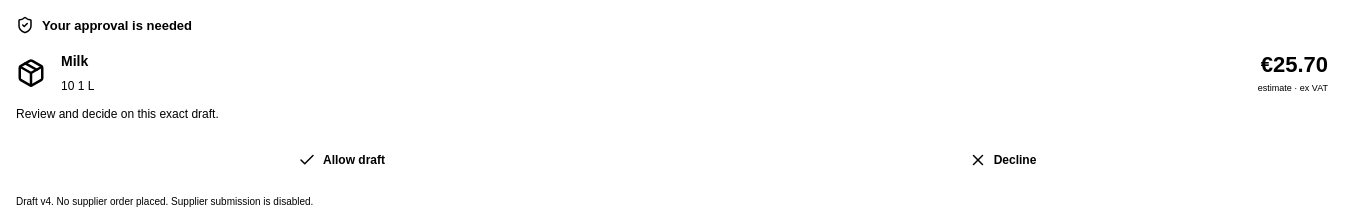
it: inline purchase decisions › submits the viewed revision with approve=false and displays the persisted result
The image size is (1345, 224).
Click the button "Decline": click(1002, 160) [677,139,1328,181]
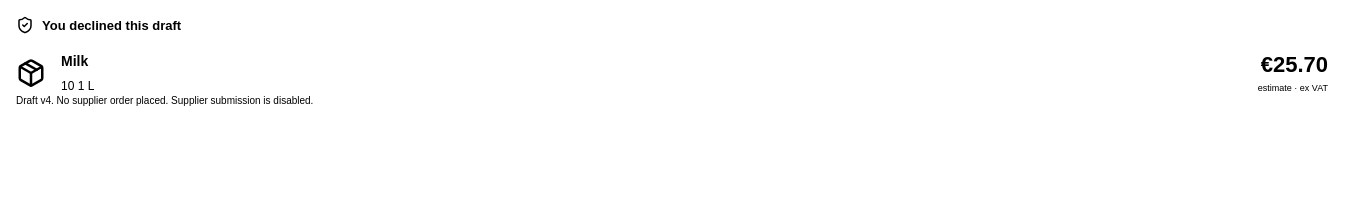
Expected: the text "No supplier order placed" is shown, [57,95,313,106]
Expected: the text "You declined this draft" is shown, [42,18,181,32]
